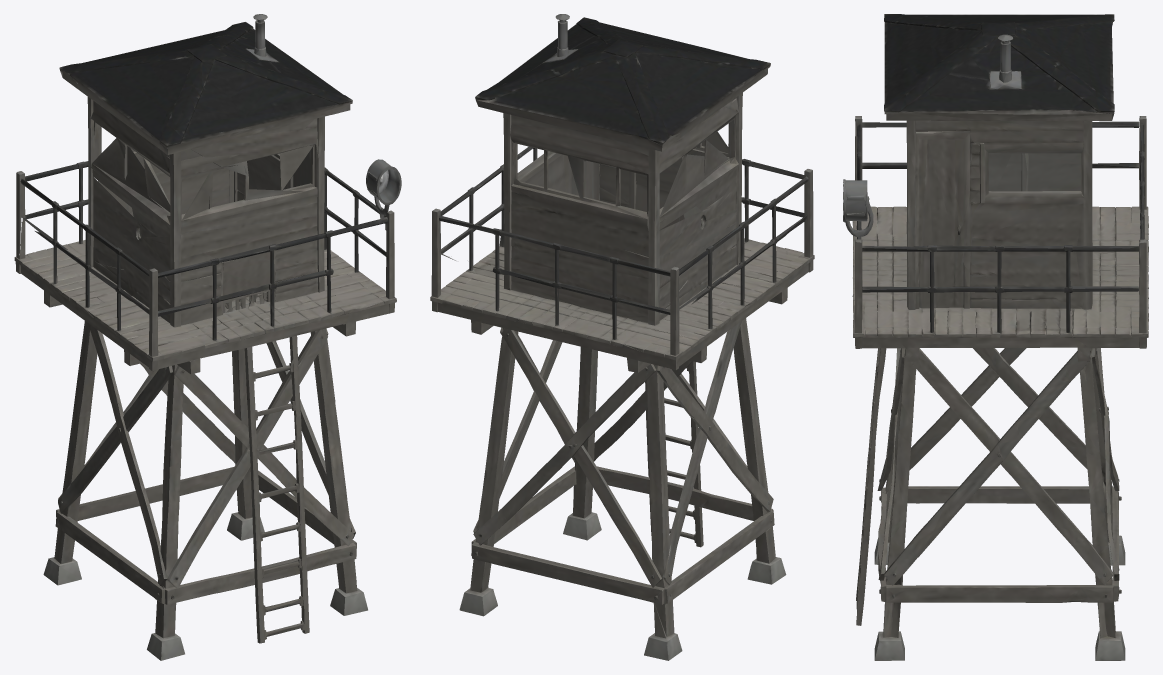
Rendered from p2_guard_tower_v2.glb.
3 renders of one model, left to right at view 1: azimuth 30°, elevation 25°; view 2: azimuth 150°, elevation 25°; view 3: azimuth 270°, elevation 25°, orthographic. The views are drawn at different scales.
Visible parts, largest first — view 1: main; view 2: main; view 3: main.
Boxes of the visible parts, x1,y1,x2,y2 form: main: (14, 14, 401, 660); main: (430, 14, 814, 660); main: (843, 14, 1148, 660).
Bounding box in the file's own units: 3.31 × 7.28 × 3.35.
Materials: 1 (1 with a texture image).
